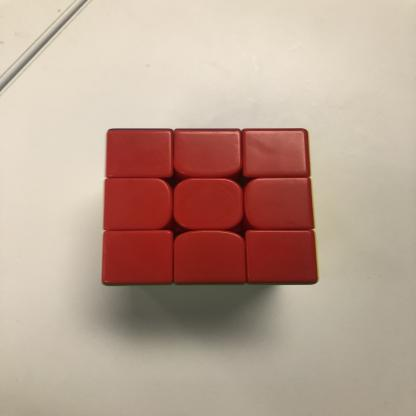SolvedCube: (90, 121, 332, 287)
